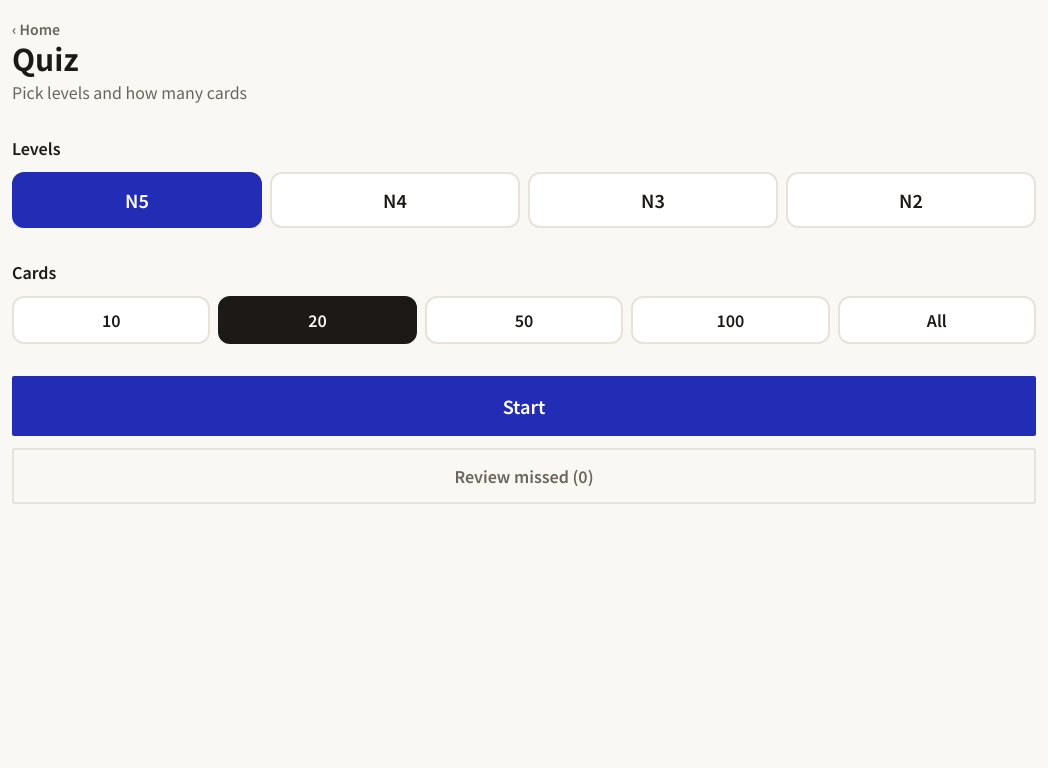
Scenario: QuizSetup › explains when every word is excluded
Click the button "Start". click: (524, 406)
box: [12,376,1036,436]
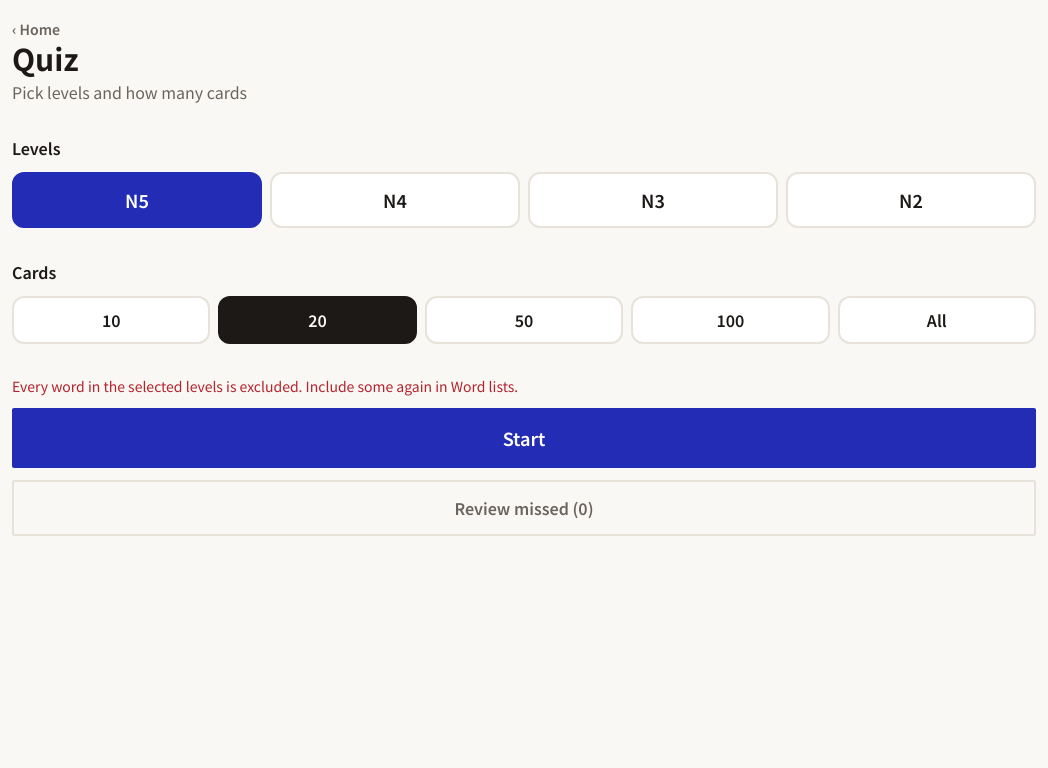
Check: the message shows "excluded", box [12,376,518,396]
